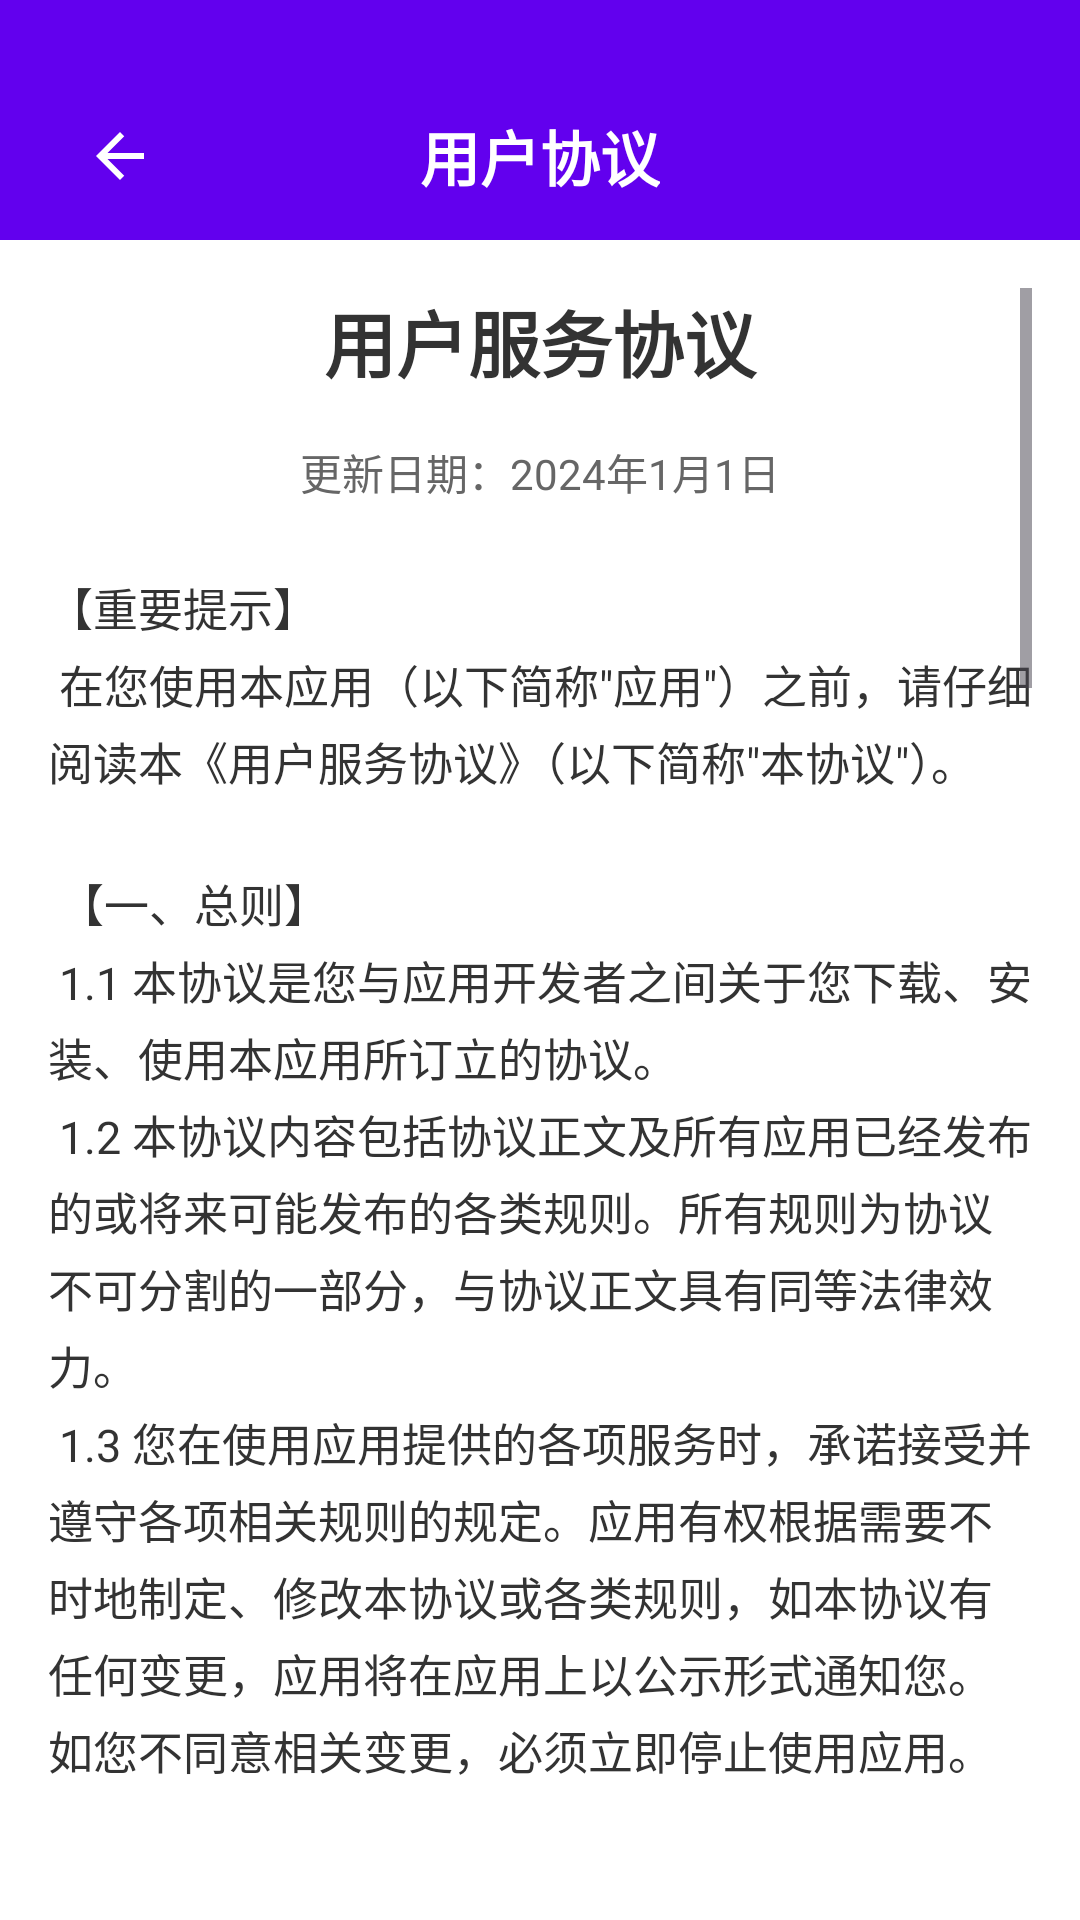

Icon bounding boxes for this 1080*1920 phone screenshot, format (x1, y1, x2, y2):
返回: (96, 132, 144, 180)
